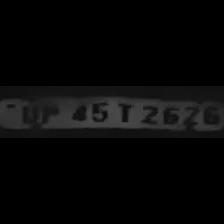2: (136, 102, 158, 124), (179, 103, 199, 125)
4: (64, 100, 90, 120)
5: (86, 98, 112, 122)
6: (200, 103, 222, 125)
P: (38, 100, 60, 124)
T: (112, 100, 136, 122)
U: (14, 99, 38, 125)
